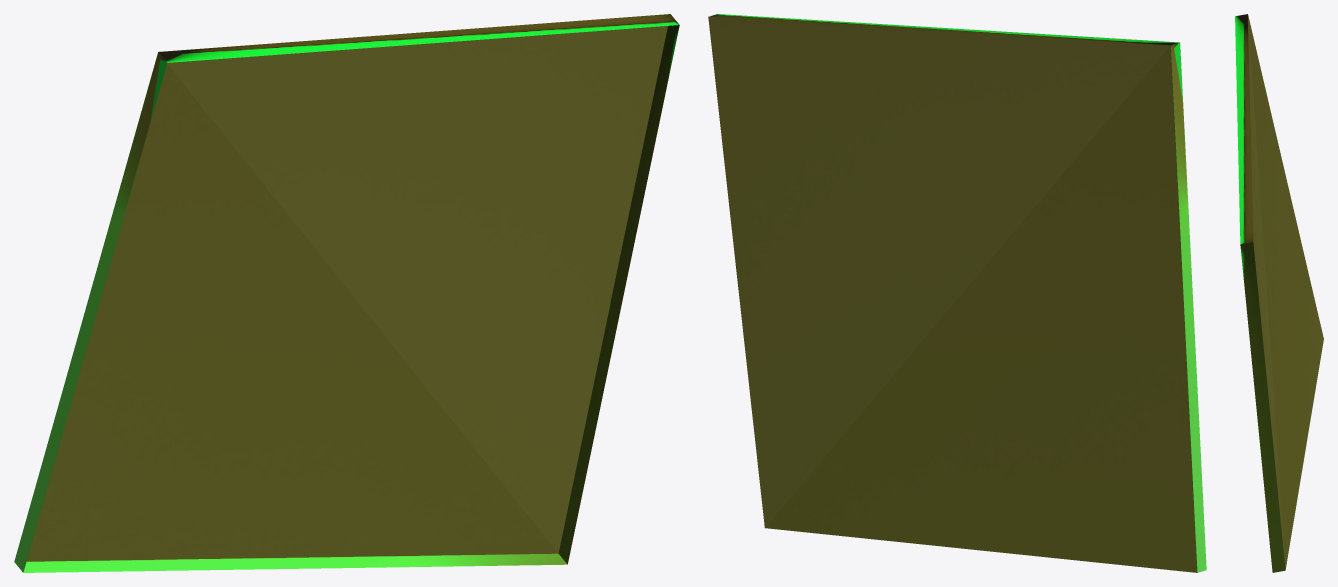
File: positordenador.fbx
3 renders of one model, left to right at view 1: azimuth 30°, elevation 25°; view 2: azimuth 150°, elevation 25°; view 3: azimuth 270°, elevation 25°, orthographic. The views are drawn at different scales.
Visible parts, largest first — view 1: Posit; view 2: Posit; view 3: Posit.
Boxes of the visible parts, x1,y1,x2,y2 form: Posit: (14, 14, 679, 572); Posit: (708, 14, 1206, 572); Posit: (1235, 14, 1323, 572).
Size of the model in its own units: 9.03 by 1.73 by 9.02.
Materials: 1 (1 with a texture image).
